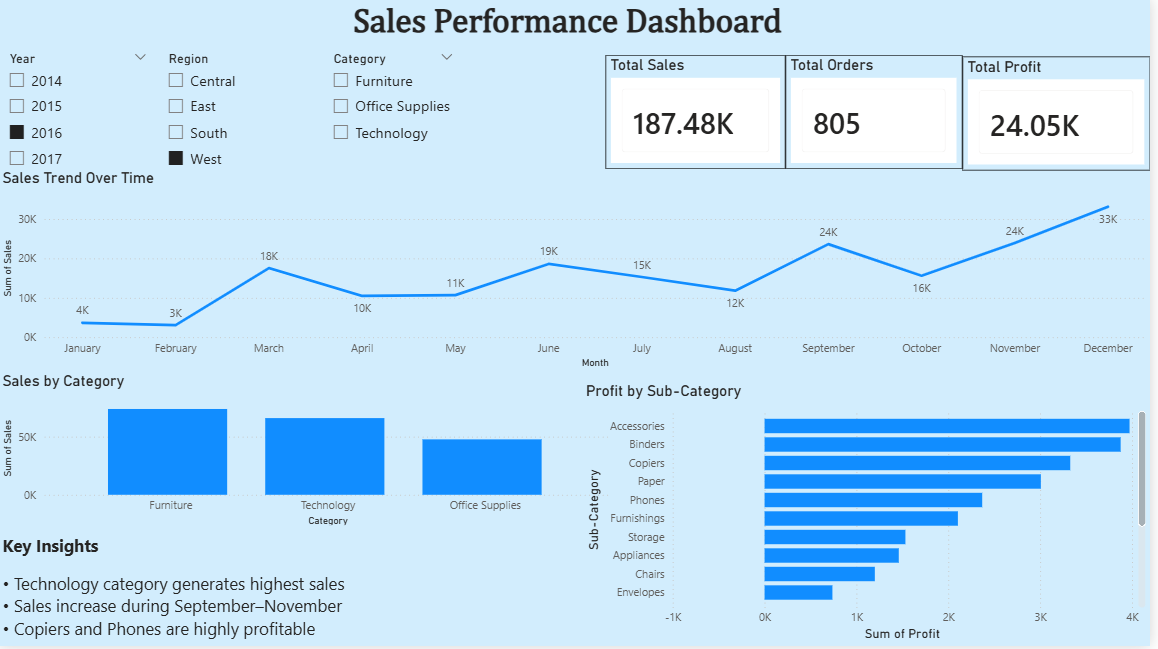

This screenshot's page, from the dashboard's own definition file:
{"tool":"powerbi","page":{"name":"Page 1","canvas":[1280,720],"ordinal":0},"visuals":[{"type":"lineChart","title":"Sales Trend Over Time","fields":{"Category":["Sample - Superstore.Order Date.Variation.Date Hierarchy.Month"],"Y":["Sum(Sample - Superstore.Sales)"]},"box":[0,189.3,1279.5,225.6],"z":0},{"type":"cardVisual","title":"Total Sales","fields":{"Data":["Sum(Sample - Superstore.Sales)"]},"box":[675,63.3,200,126.7],"z":1000},{"type":"cardVisual","title":"Total Orders","fields":{"Data":["CountNonNull(Sample - Superstore.Order ID)"]},"box":[875,63.3,196.7,126.7],"z":2000},{"type":"cardVisual","title":"Total Profit","fields":{"Data":["Sum(Sample - Superstore.Profit)"]},"box":[1071.7,65,208.3,126.7],"z":3000},{"type":"slicer","fields":{"Values":["Sample - Superstore.Region"]},"box":[177.2,53,183.2,162],"z":4000},{"type":"slicer","fields":{"Values":["Sample - Superstore.Category"]},"box":[360.4,53,157.5,180.2],"z":5000},{"type":"clusteredColumnChart","title":"Sales by Category","fields":{"Category":["Sample - Superstore.Category"],"Y":["Sum(Sample - Superstore.Sales)"]},"box":[0,414.9,685.9,175.6],"z":6000},{"type":"slicer","fields":{"Values":["Sample - Superstore.Order Date.Variation.Date Hierarchy.Year"]},"box":[0,53,177.2,149.9],"z":7000},{"type":"clusteredBarChart","title":"Profit by Sub-Category","fields":{"Category":["Sample - Superstore.Sub-Category"],"Y":["Sum(Sample - Superstore.Profit)"]},"box":[648.1,427,631.4,292.2],"z":8000},{"type":"textbox","box":[360.9,0,542.2,68.8],"z":9000},{"type":"textbox","box":[0,590.5,640.5,128.7],"z":9001}]}

Visuals, with their boxes in screenshot pixels (x1, y1, x2, y2), scaled from the page's 1280x720 canvas onto the 1158x649 screenshot:
"Sales Trend Over Time" lineChart: x1=0 y1=171 x2=1157 y2=374
"Total Sales" cardVisual: x1=611 y1=57 x2=792 y2=171
"Total Orders" cardVisual: x1=792 y1=57 x2=970 y2=171
"Total Profit" cardVisual: x1=970 y1=59 x2=1157 y2=173
slicer - Sample - Superstore.Region: x1=160 y1=48 x2=326 y2=194
slicer - Sample - Superstore.Category: x1=326 y1=48 x2=469 y2=210
"Sales by Category" clusteredColumnChart: x1=0 y1=374 x2=621 y2=532
slicer - Sample - Superstore.Order Date.Variation.Date Hierarchy.Year: x1=0 y1=48 x2=160 y2=183
"Profit by Sub-Category" clusteredBarChart: x1=586 y1=385 x2=1157 y2=648
textbox: x1=327 y1=0 x2=817 y2=62
textbox: x1=0 y1=532 x2=579 y2=648
